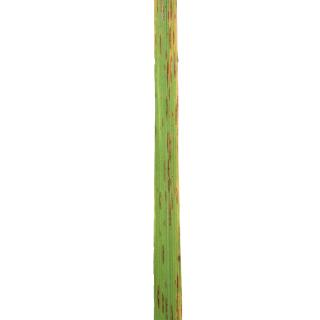Bercak-Cokelat-Sempit: (167, 131, 173, 195), (174, 96, 180, 127), (162, 242, 168, 270), (160, 288, 165, 316), (175, 270, 178, 315), (168, 200, 172, 231), (166, 48, 169, 88), (168, 26, 173, 50), (165, 95, 169, 124), (174, 183, 179, 206), (156, 282, 160, 310), (174, 51, 178, 79), (159, 32, 163, 58), (158, 190, 162, 214), (169, 301, 174, 320), (161, 0, 165, 22), (176, 252, 181, 266), (180, 302, 184, 319), (163, 160, 166, 182), (156, 0, 160, 15), (172, 29, 175, 47), (170, 0, 172, 22), (164, 280, 169, 288)
